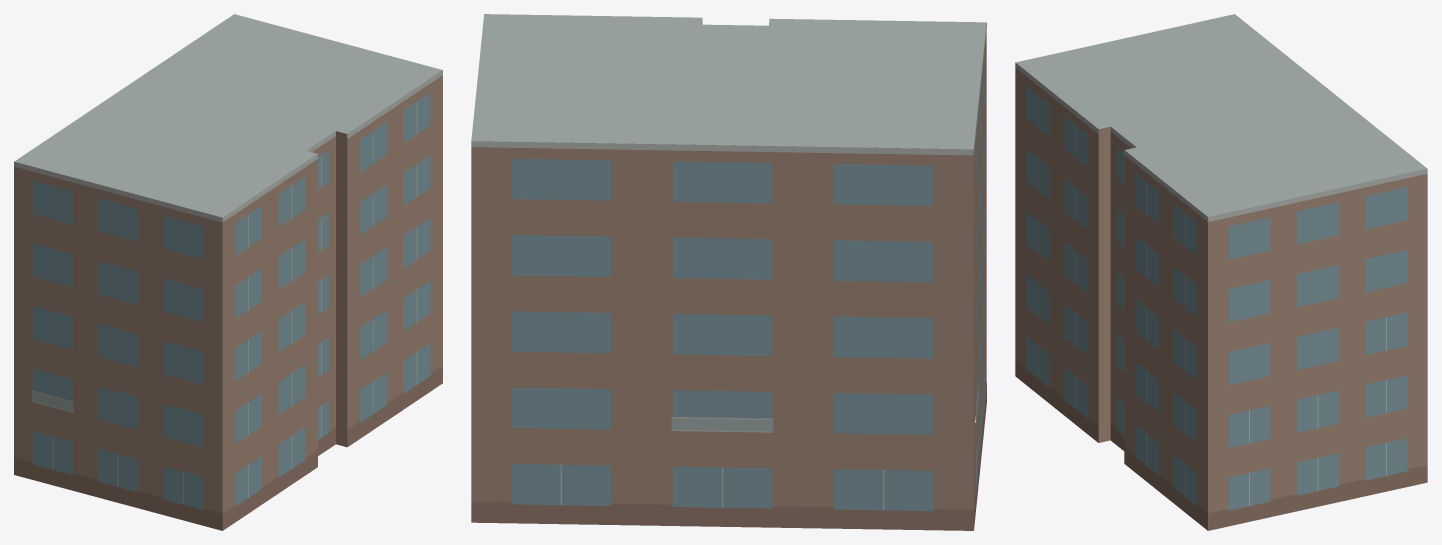
Rendered from survey-upis-32831109.glb.
The picture shows the model from 3 angles, left to right: view 1: azimuth 30°, elevation 25°; view 2: azimuth 150°, elevation 25°; view 3: azimuth 270°, elevation 25°; orthographic projection. The views are drawn at different scales.
Parts seen in each view (by area): view 1: survey-upis-32831109.tmp; view 2: survey-upis-32831109.tmp; view 3: survey-upis-32831109.tmp.
Boxes of the visible parts, x1,y1,x2,y2 form: survey-upis-32831109.tmp: (14, 14, 442, 530); survey-upis-32831109.tmp: (471, 14, 986, 530); survey-upis-32831109.tmp: (1015, 14, 1427, 530).
Bounding box in the file's own units: 21.24 × 15.3 × 18.22.
